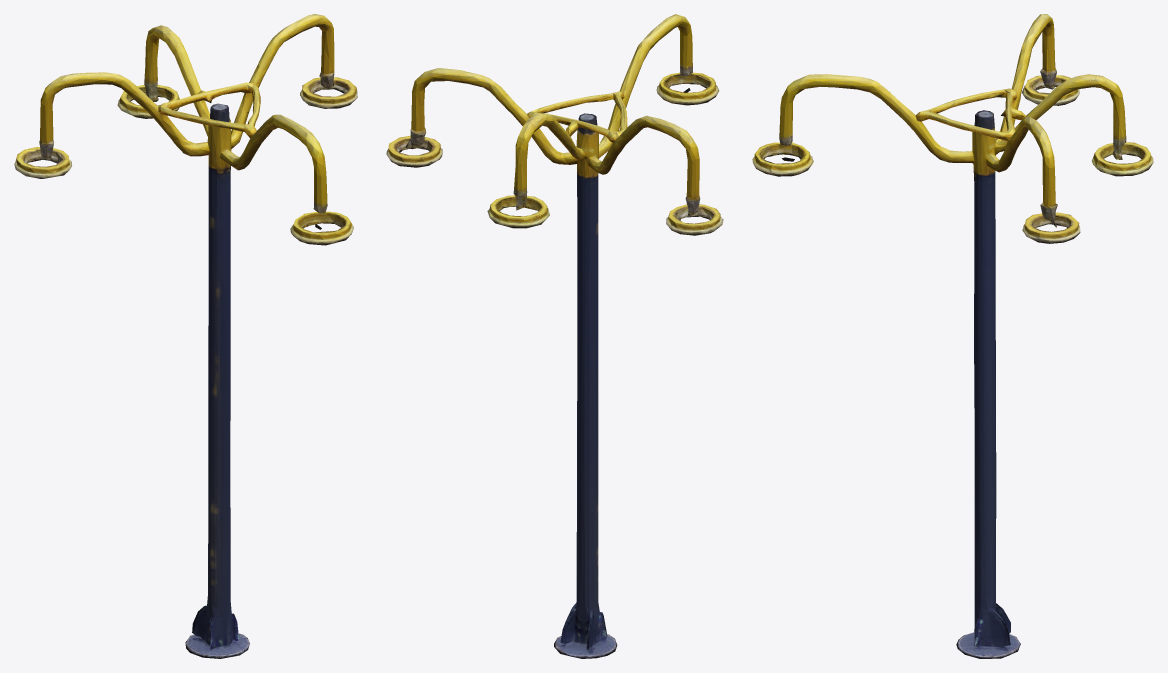
The model's file is da p se pendurar.obj.
3 views of the same model, side by side, from view 1: azimuth 30°, elevation 25°; view 2: azimuth 150°, elevation 25°; view 3: azimuth 270°, elevation 25° (orthographic). The views are drawn at different scales.
Visible parts, largest first — view 1: obj1; view 2: obj1; view 3: obj1.
Part boxes in pixels (x1,y1,x2,y2): obj1: [14, 14, 357, 658]; obj1: [386, 14, 723, 658]; obj1: [752, 14, 1153, 658].
Bounding box in the file's own units: 0.6047 × 0.9992 × 0.6342.
Materials: 1 (1 with a texture image).
